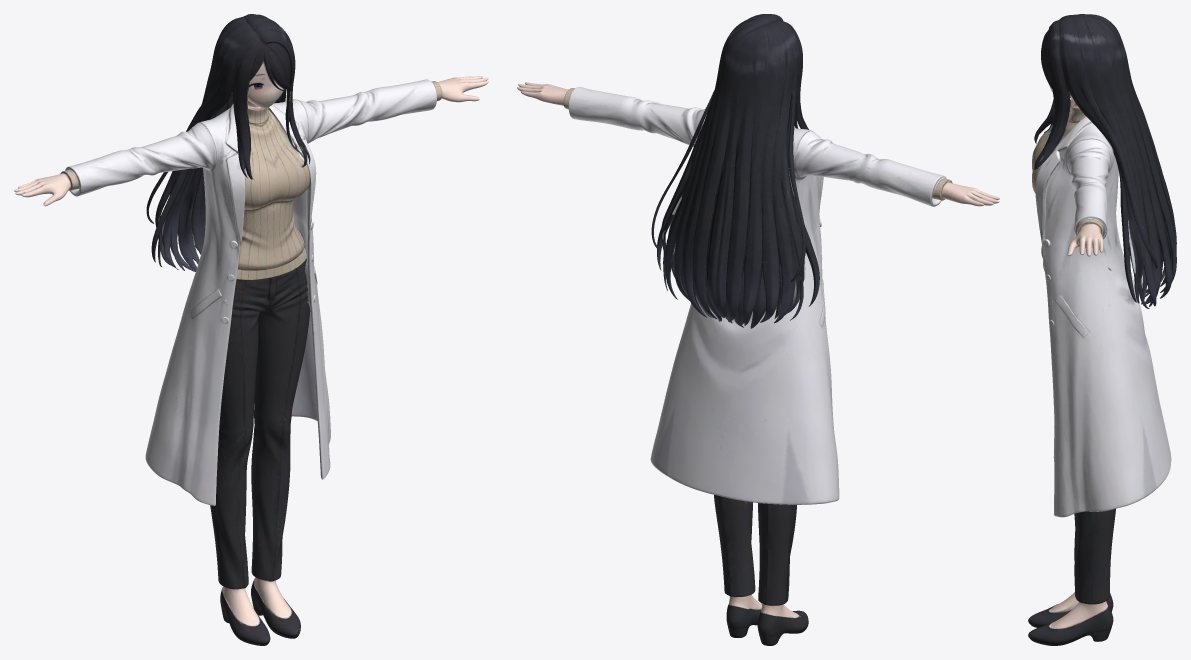
File: rosalindmodel.glb
The picture shows the model from 3 angles, left to right: view 1: azimuth 30°, elevation 25°; view 2: azimuth 150°, elevation 25°; view 3: azimuth 270°, elevation 25°; orthographic projection.
Size of the model in its own units: 1.56 by 1.9 by 0.4167.
1 material, 1 textured.
